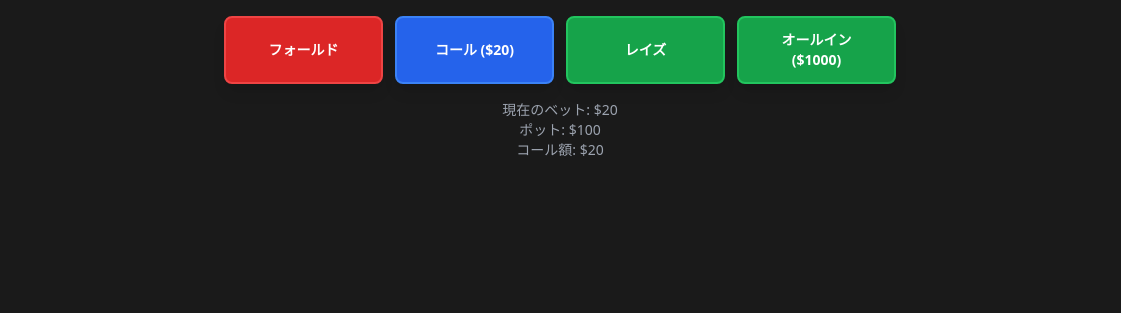
Scenario: ActionButtons › レイズボタンをクリックするとベット入力画面が表示される
Click the button with test id "raise-btn" at [646, 50], box [566,16,725,84]
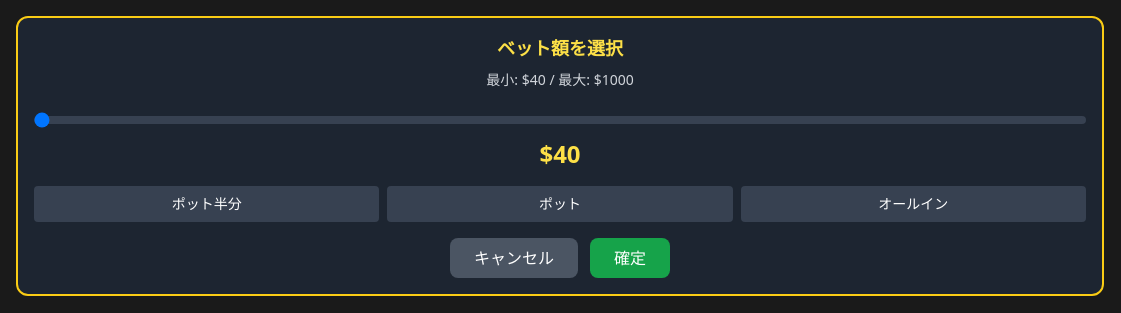
Expected: the heading "ベット額を選択" is shown, [497,36,623,60]
Expected: the 2nd slider with test id "bet-slider" is shown, [34,116,1086,124]
